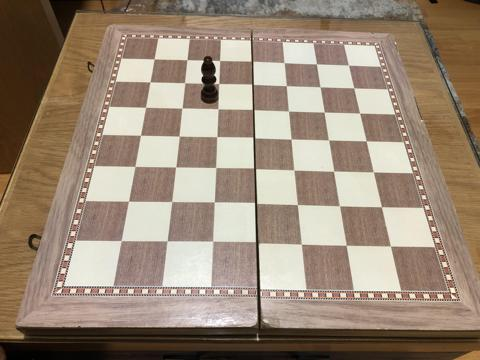xcorner: (316, 81, 328, 94), (320, 106, 332, 119), (249, 132, 261, 145), (250, 163, 262, 176), (209, 197, 221, 210), (386, 239, 398, 252), (252, 237, 264, 250), (344, 60, 356, 72), (312, 59, 324, 71), (280, 58, 292, 70), (247, 57, 259, 69), (215, 56, 227, 68), (182, 55, 194, 67), (149, 54, 161, 66), (349, 82, 361, 94), (282, 81, 294, 93), (248, 80, 260, 92), (214, 79, 226, 91), (179, 78, 191, 90), (145, 77, 157, 89), (355, 107, 367, 119), (284, 106, 296, 118), (249, 105, 261, 117), (213, 104, 225, 116), (176, 103, 188, 115), (140, 102, 152, 114), (362, 135, 374, 147), (324, 134, 336, 146), (287, 133, 299, 145), (211, 132, 223, 144), (173, 131, 185, 143), (135, 130, 147, 142), (369, 166, 381, 178), (330, 165, 342, 177), (290, 164, 302, 176), (210, 163, 222, 175), (170, 162, 182, 174), (129, 161, 141, 173), (377, 201, 389, 213), (335, 200, 347, 212), (293, 199, 305, 211), (251, 198, 263, 210), (166, 197, 178, 209), (123, 196, 135, 208), (342, 239, 354, 251), (297, 238, 309, 250), (207, 237, 219, 249), (161, 236, 173, 248), (115, 235, 127, 247)
